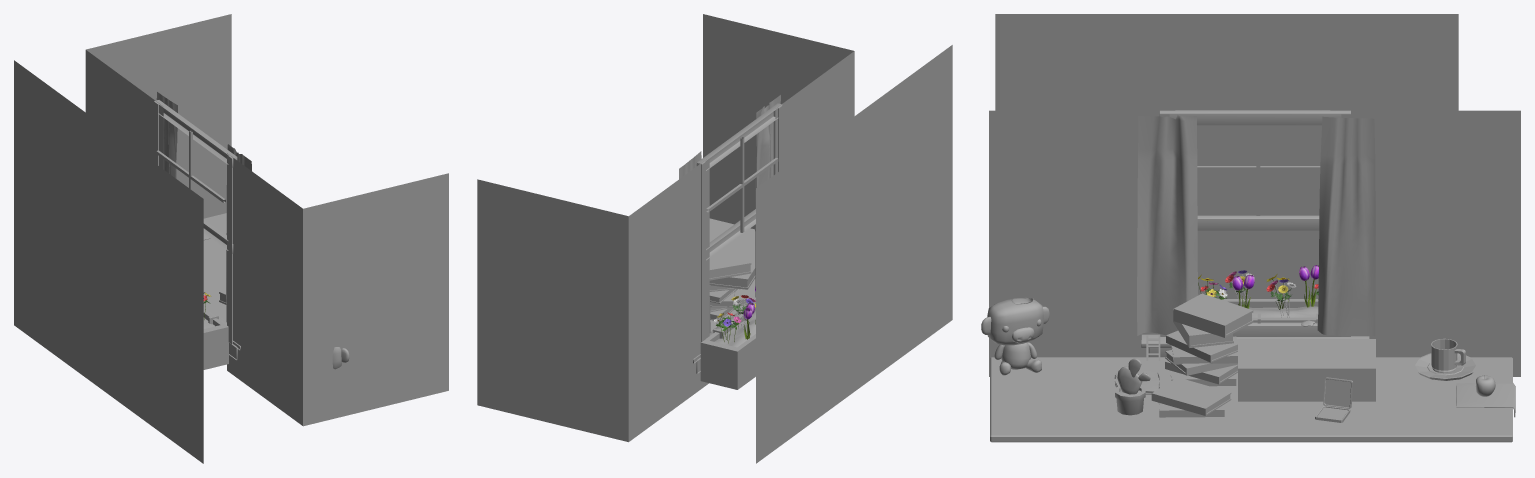
File: Escenario.fbx
3 renders of one model, left to right at view 1: azimuth 30°, elevation 25°; view 2: azimuth 150°, elevation 25°; view 3: azimuth 270°, elevation 25°, orthographic. The views are drawn at different scales.
Parts seen in each view (by area): view 1: Paredes, Cielo, Window_Frame, Desk, Maceta_Ventana, Curtain_2; view 2: Paredes, Cielo, Window_Frame, Maceta_Ventana, Libros, Curtain_2, Desk; view 3: Paredes, Cielo, Desk, Curtain_2, Libros, pared_chica, Window_Frame, Peluche, Taza, Maceta_Ventana, Cactus, Repasador (+1 smaller).
Part boxes in pixels (<box>): Paredes: <box>85,14,448,426</box>; Cielo: <box>14,60,203,463</box>; Window_Frame: <box>154,100,240,360</box>; Desk: <box>203,213,226,320</box>; Maceta_Ventana: <box>203,309,228,369</box>; Curtain_2: <box>156,92,251,322</box>; Paredes: <box>477,14,854,442</box>; Cielo: <box>756,45,952,463</box>; Window_Frame: <box>693,103,782,373</box>; Maceta_Ventana: <box>700,302,755,389</box>; Libros: <box>709,247,755,320</box>; Curtain_2: <box>679,95,780,332</box>; Desk: <box>709,218,755,331</box>; Paredes: <box>989,110,1520,376</box>; Cielo: <box>995,14,1458,298</box>; Desk: <box>990,357,1512,442</box>; Curtain_2: <box>1137,114,1375,336</box>; Libros: <box>1151,293,1253,417</box>; pared_chica: <box>1238,339,1375,401</box>; Window_Frame: <box>1141,110,1369,356</box>; Peluche: <box>981,297,1049,375</box>; Taza: <box>1413,338,1477,380</box>; Maceta_Ventana: <box>1222,299,1318,323</box>; Cactus: <box>1115,358,1150,415</box>; Repasador: <box>1456,382,1515,417</box>.
Size of the model in its own units: 368 by 383 by 577.
